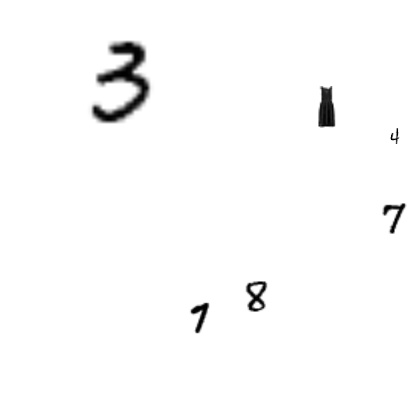3: (65, 22, 177, 134)
4: (384, 125, 406, 147)
7: (179, 294, 221, 336), (372, 193, 414, 235)
8: (234, 274, 276, 316)
Dress: (305, 86, 347, 128)
